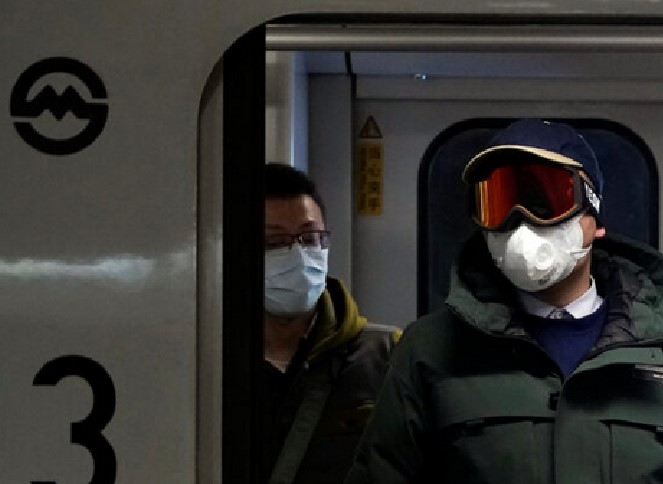face_with_mask: (464, 124, 611, 304), (263, 164, 338, 328)
